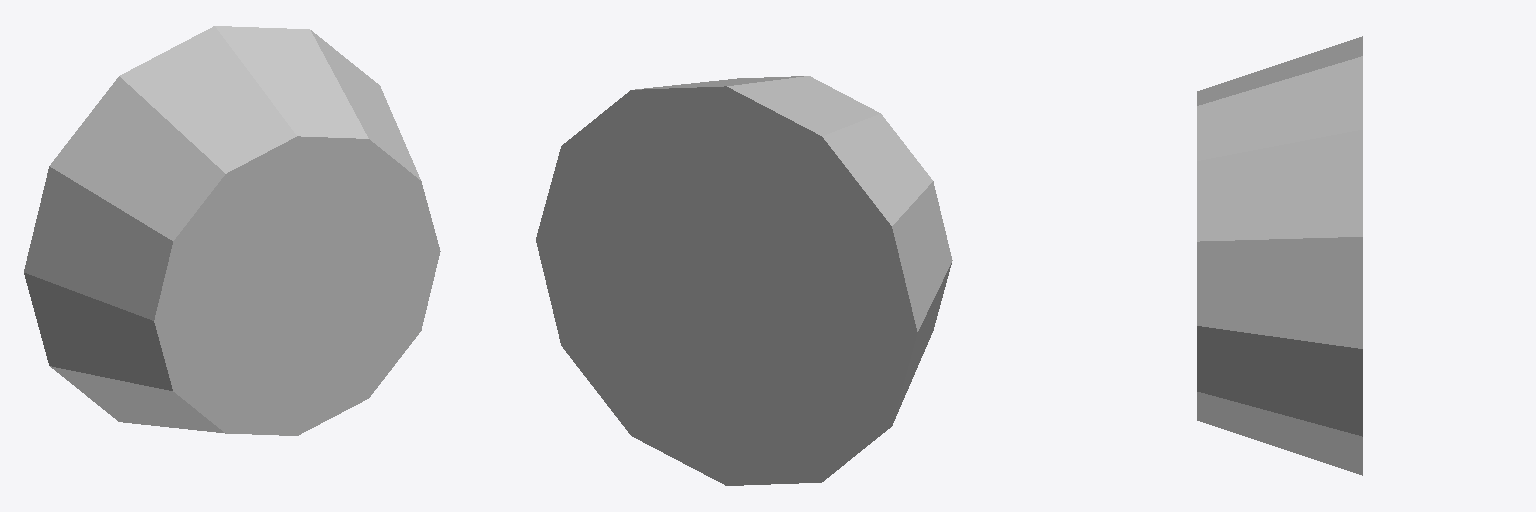
The model's file is lamp.obj.
3 renders of one model, left to right at view 1: azimuth 30°, elevation 25°; view 2: azimuth 150°, elevation 25°; view 3: azimuth 270°, elevation 25°, orthographic.
Visible parts, largest first — view 1: lamp; view 2: lamp; view 3: lamp.
Boxes of the visible parts, x1,y1,x2,y2 form: lamp: [24, 26, 440, 435]; lamp: [536, 76, 952, 485]; lamp: [1197, 36, 1362, 475].
Size of the model in its own units: 0.32 by 0.32 by 0.12.